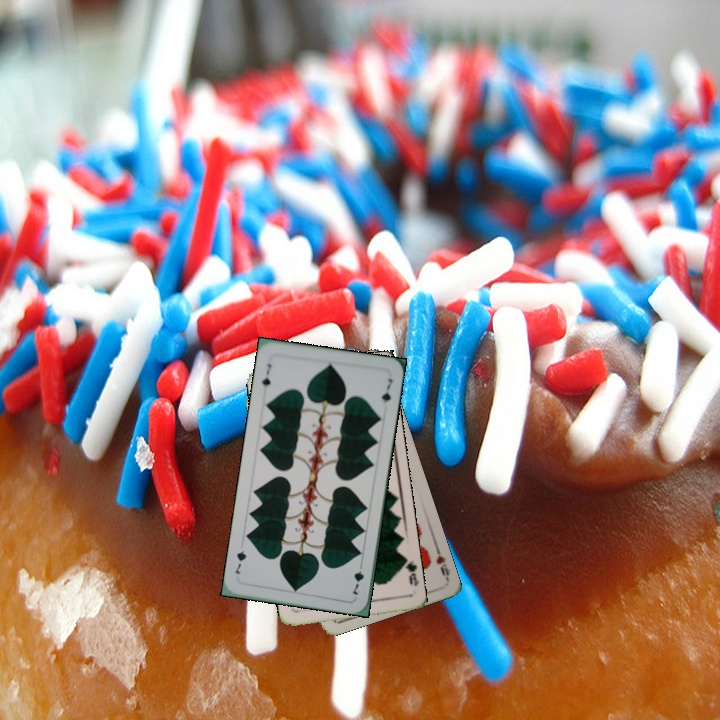G7: (349, 558, 367, 597), (258, 359, 274, 390)
G9: (397, 554, 420, 589)
H9: (431, 542, 452, 582)
